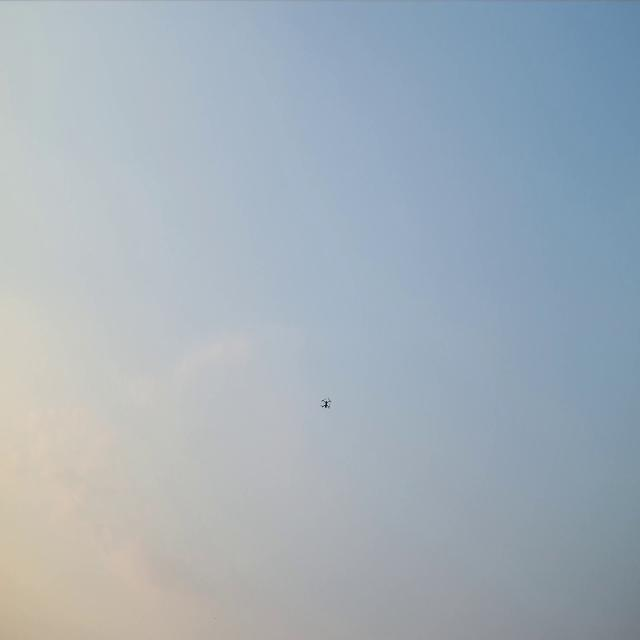UAV: (324, 399, 330, 408)
